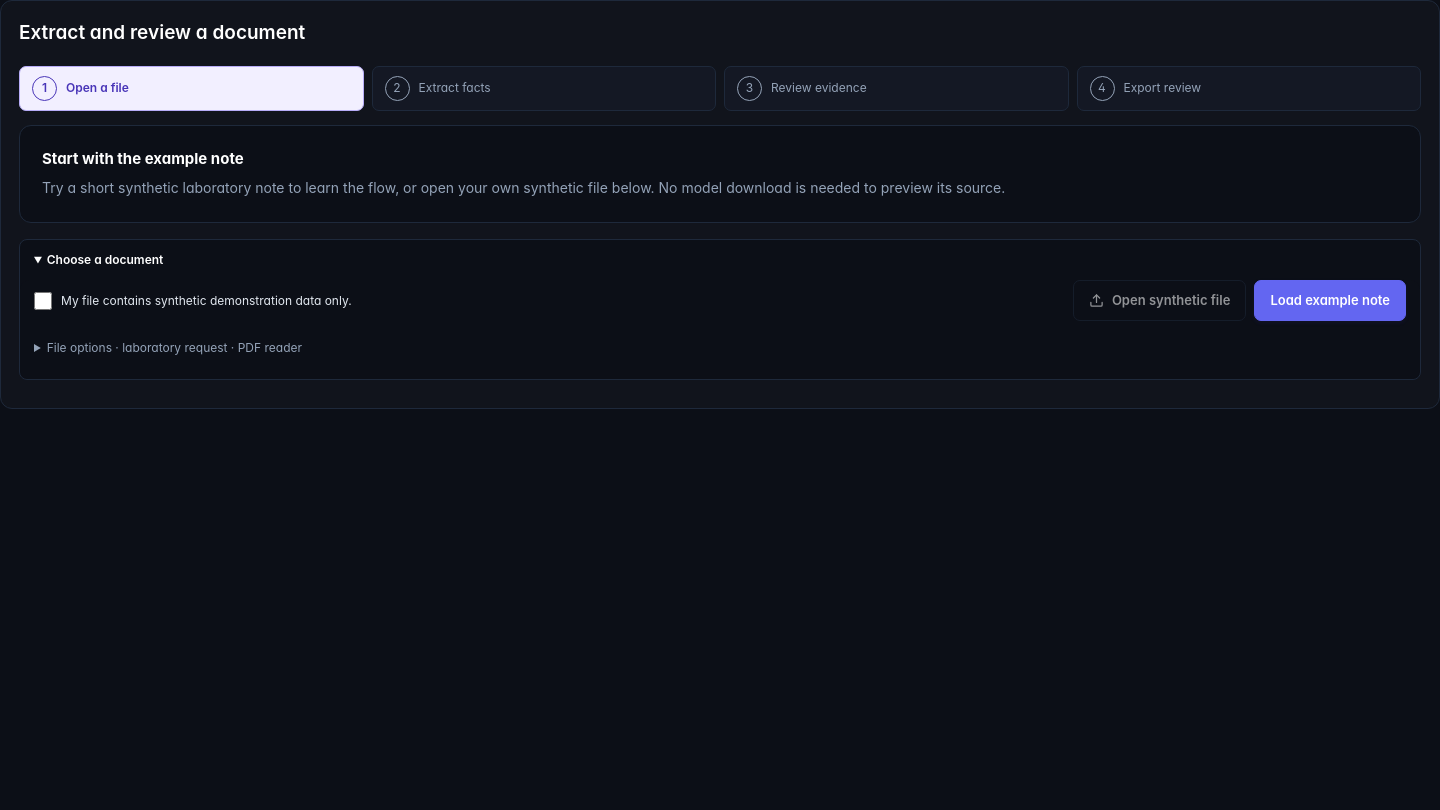
Test: distinguishes a download request from saving and invalidates its status after review changes
The width and height of the screenshot is (1440, 810).
Click the button "Load example note" at x=1330, y=301, box [1254,280,1406,321]
(page scrolled)
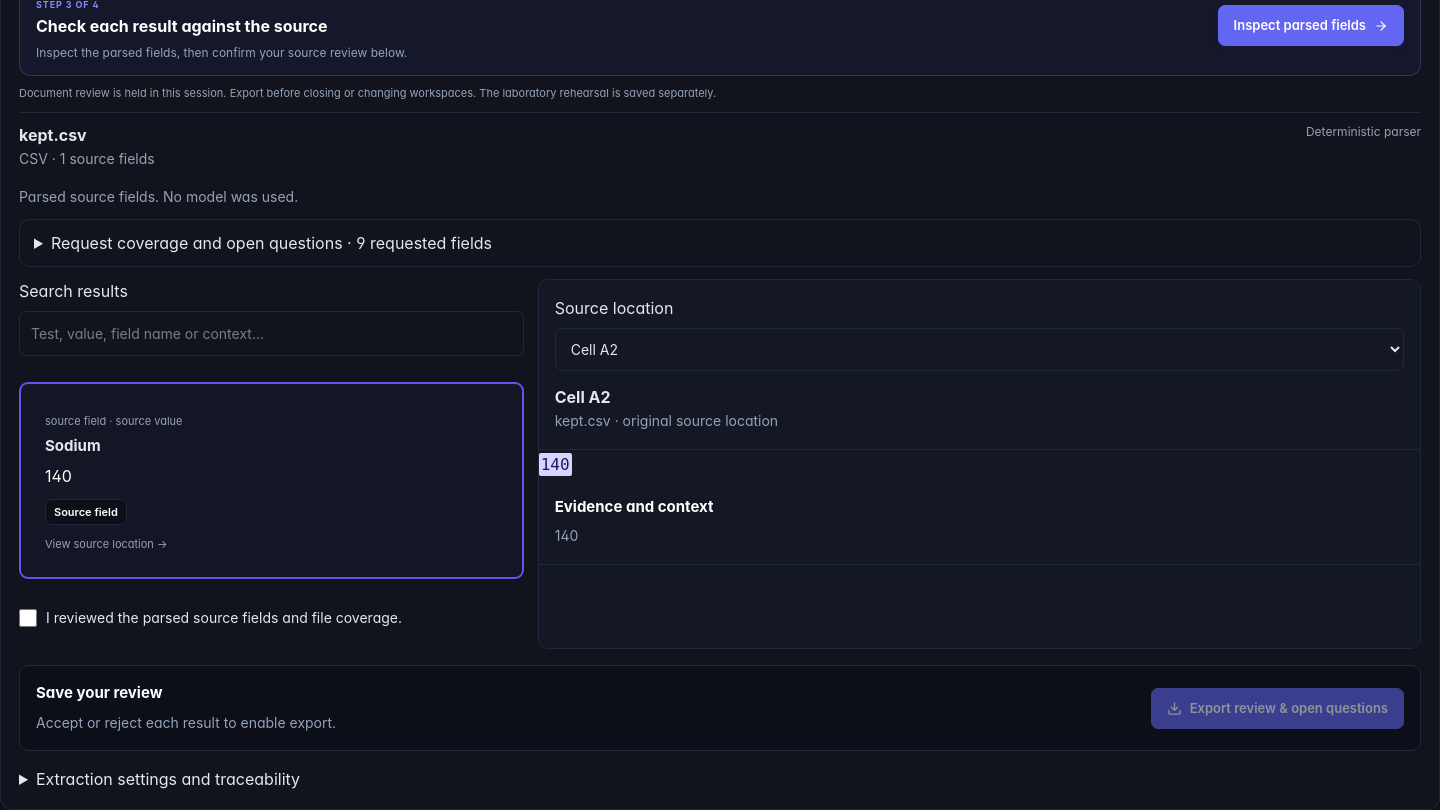
Check: the text "kept.csv" is shown, box [19,125,87,145]
Click the checkbox labelled "I reviewed the parsed source fields and file coverage." at x=28, y=618, box [19,609,37,627]
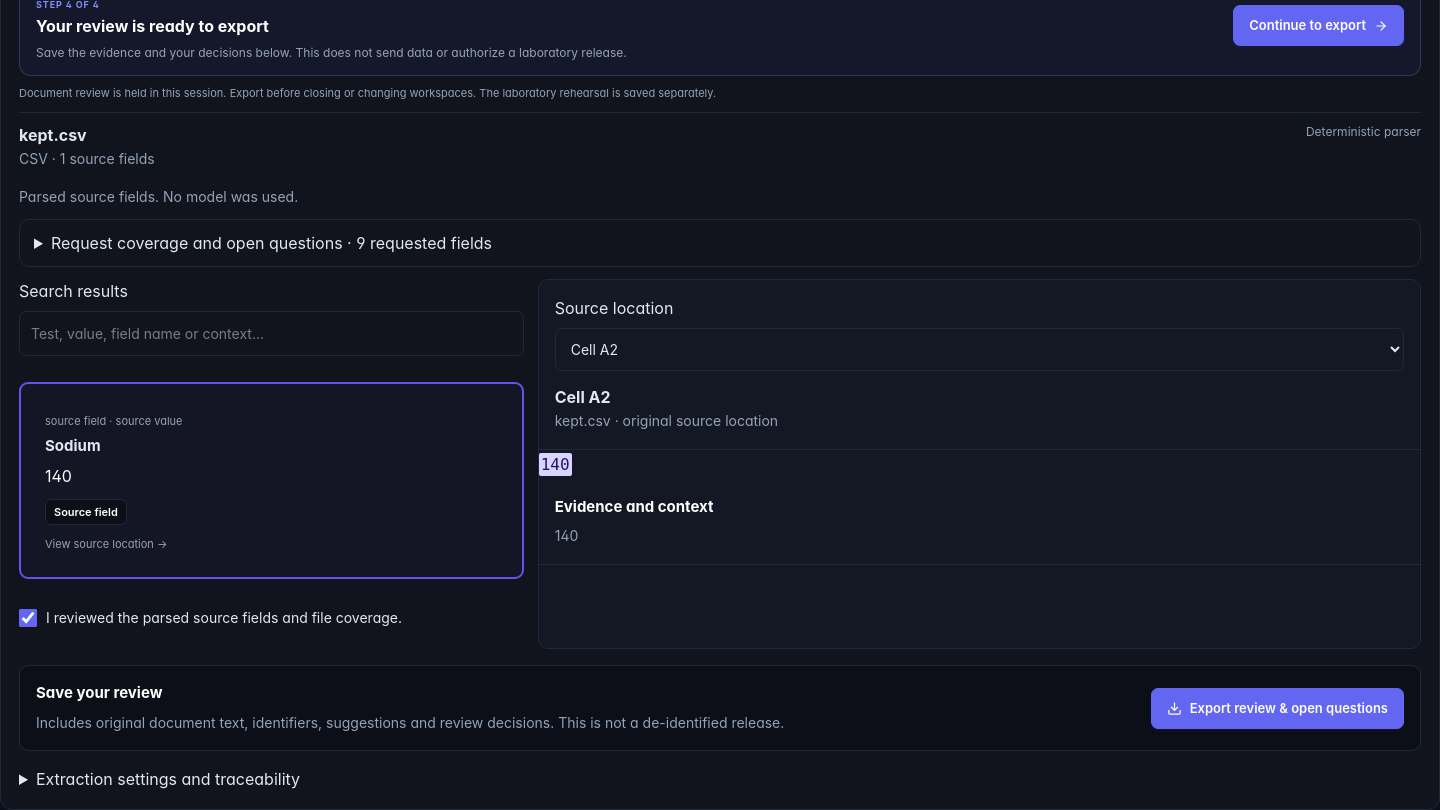
Click the button "Export review & open questions" at x=1277, y=708, box [1151,688,1404,729]
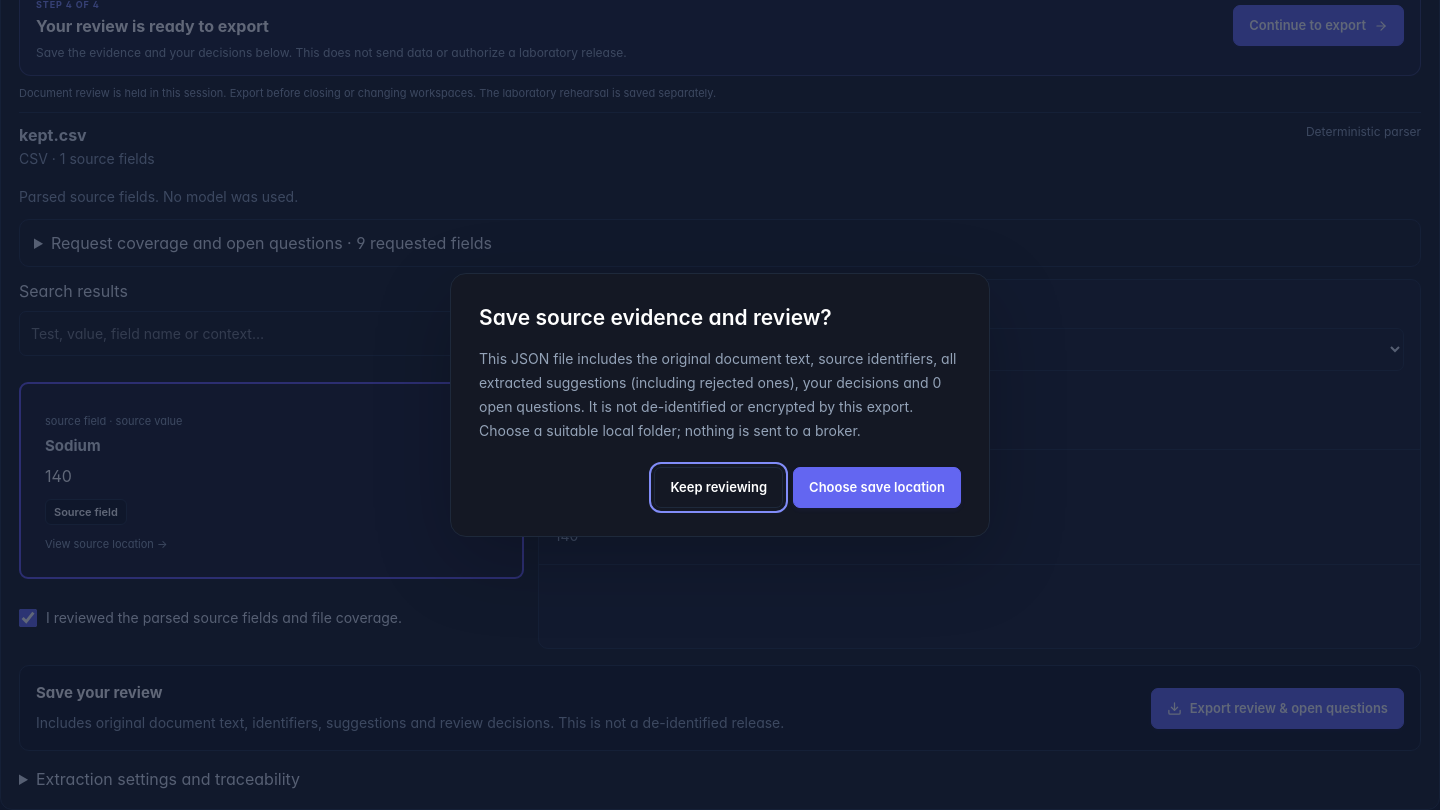
Click the button "Choose save location" at x=877, y=487, box [793,467,961,508]
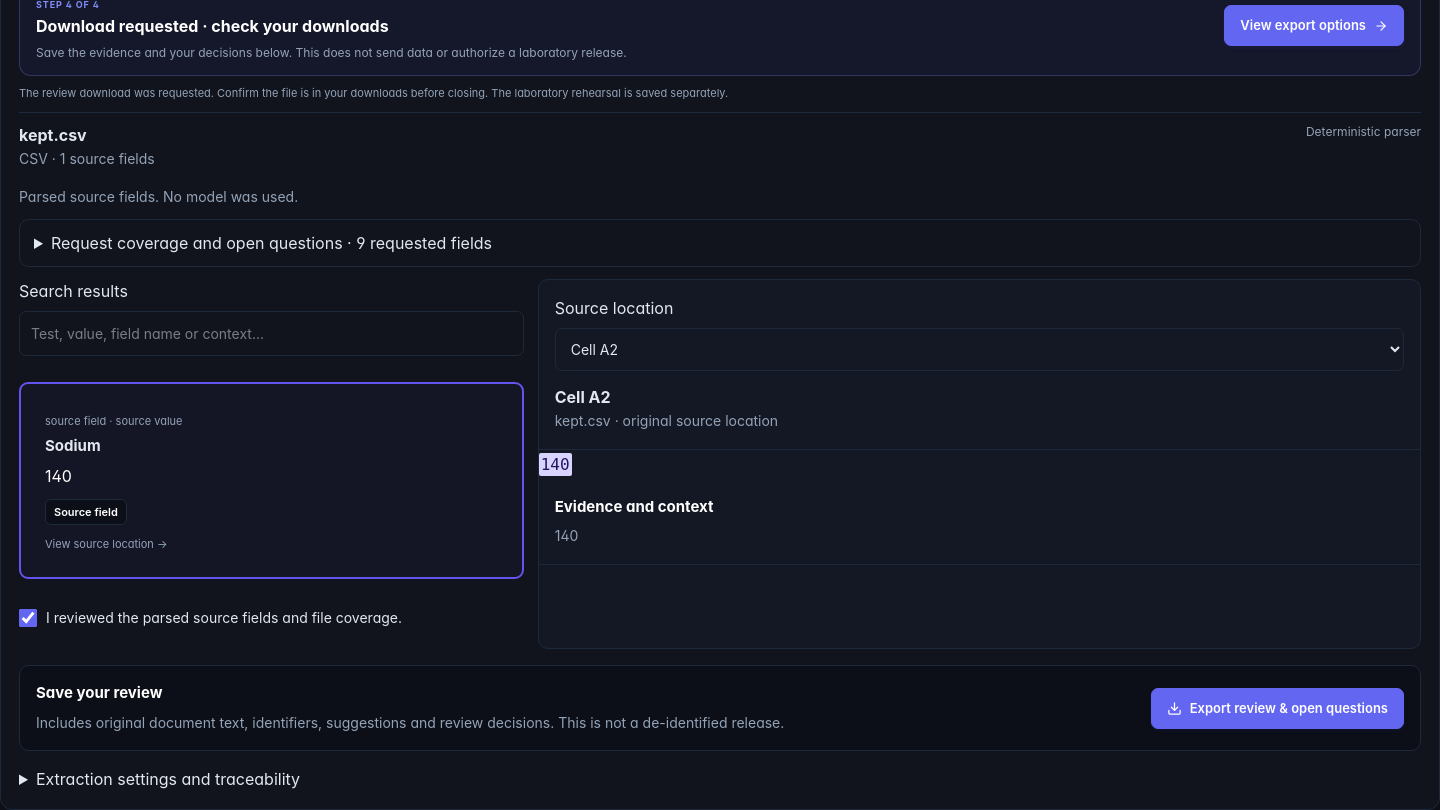
Check: the heading "Download requested · check your downloads" is shown, box [36,16,389,36]
Click the checkbox labelled "I reviewed the parsed source fields and file coverage." at x=28, y=618, box [19,609,37,627]
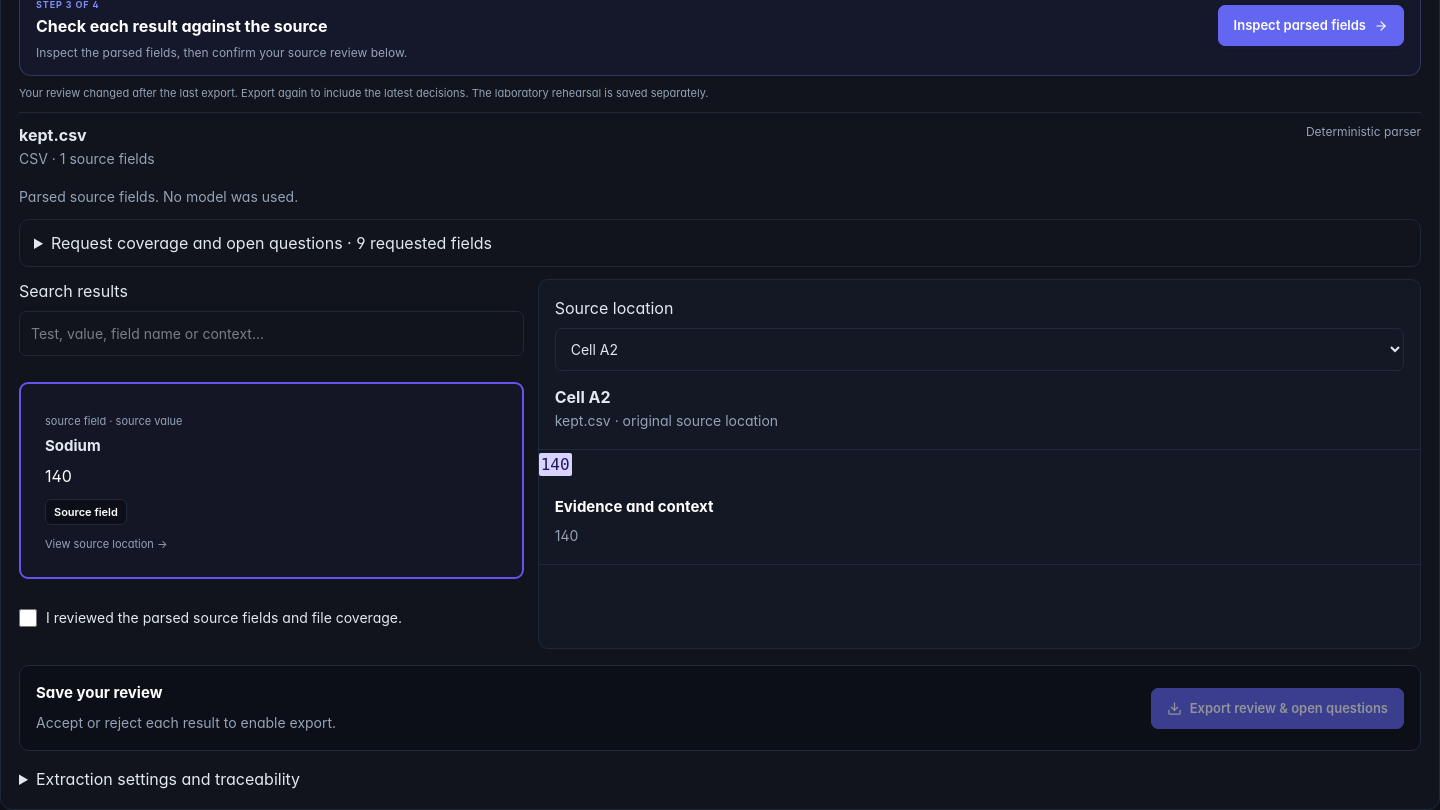
Check: the text "Your review changed after the last export" is shown, box [19,86,469,100]
Check: the button "Export review & open questions" is disabled, box [1151,688,1404,729]
